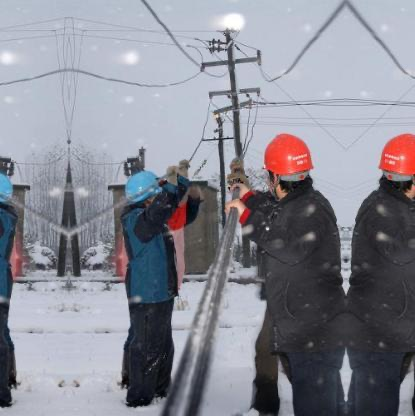Safety Helmet: (258, 131, 315, 198), (373, 129, 415, 216), (120, 167, 164, 219)
